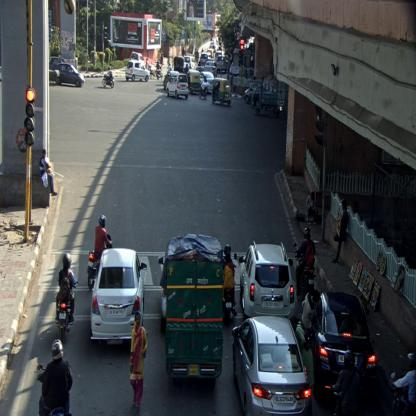car: (232, 316, 312, 415), (310, 291, 376, 404), (90, 248, 148, 351), (240, 241, 297, 319), (54, 63, 85, 87), (166, 72, 189, 100), (125, 60, 150, 83), (49, 58, 68, 75), (200, 71, 214, 91), (245, 84, 259, 104), (218, 54, 231, 74), (164, 71, 178, 88), (204, 61, 218, 78), (130, 51, 144, 62), (201, 53, 212, 66)
motorcycle: (37, 340, 74, 415), (56, 251, 77, 344), (88, 214, 112, 288), (293, 228, 315, 304), (391, 351, 415, 416), (223, 244, 237, 325), (102, 67, 115, 88), (198, 76, 208, 100), (156, 60, 164, 79)
truck: (158, 234, 224, 382), (252, 75, 285, 116)
